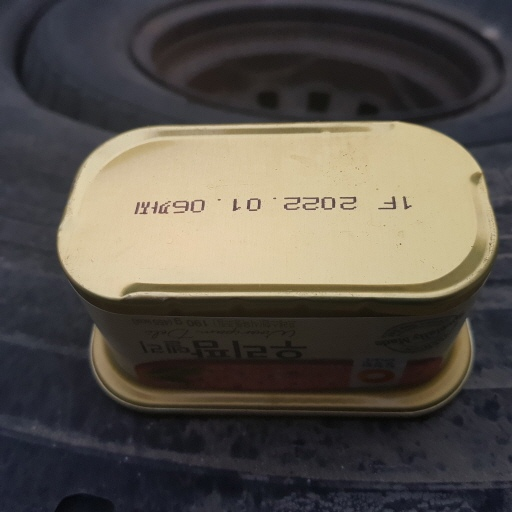Metal_2: (54, 124, 502, 415)
